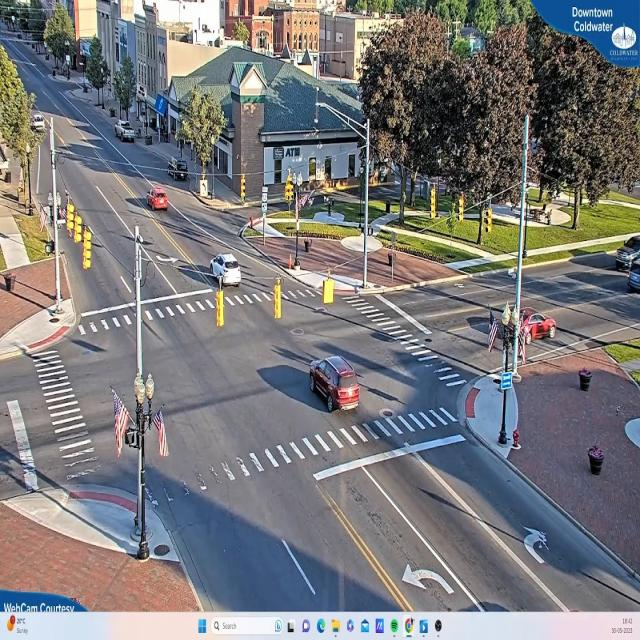car: (308, 353, 361, 414), (515, 306, 561, 339), (208, 251, 241, 288), (587, 443, 605, 475), (148, 186, 170, 212), (166, 160, 189, 181), (116, 124, 136, 143), (626, 271, 638, 295)
